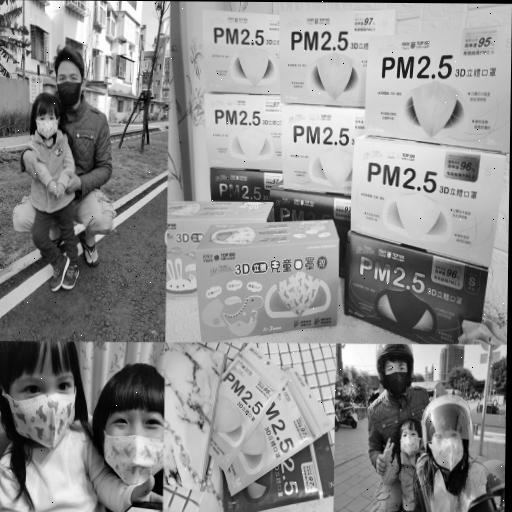mask: (0, 323, 81, 453), (95, 356, 175, 487), (427, 389, 471, 476), (371, 337, 414, 396), (51, 45, 86, 112), (28, 90, 62, 140), (395, 412, 423, 459)
